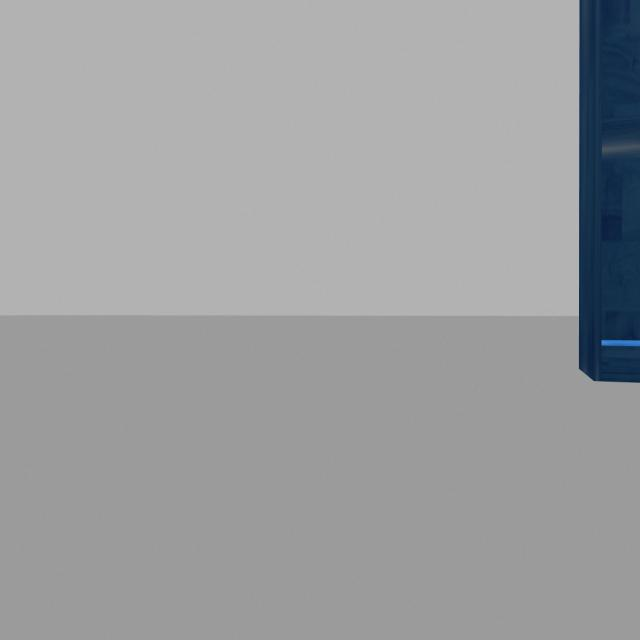shelf: (576, 3, 640, 381)
